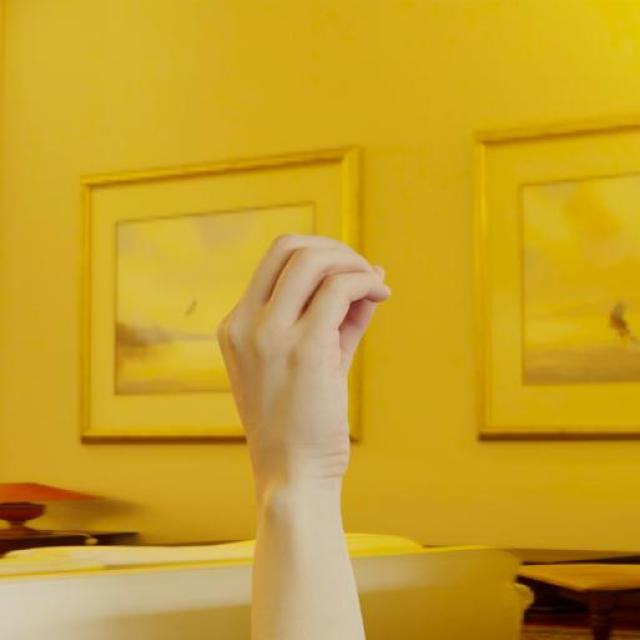O: (211, 228, 395, 510)
